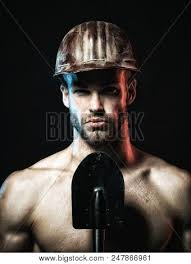Person_wearing_helmet: (52, 15, 143, 97)
